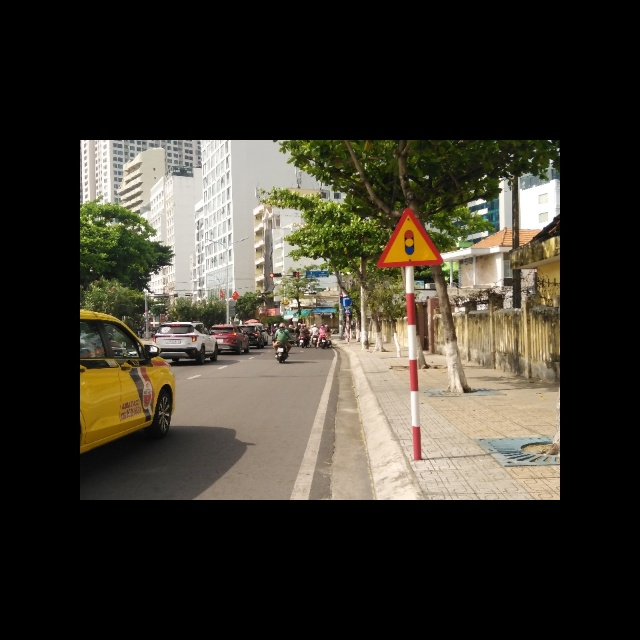Giao nhau có tín hiệu đèn: (376, 203, 444, 268)
